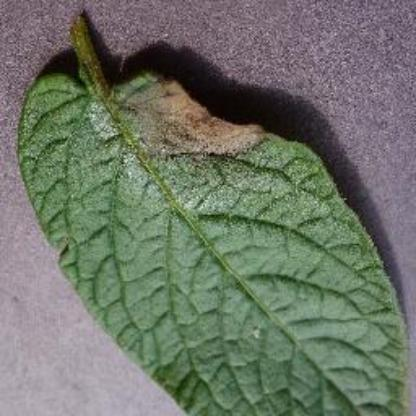Late-Blight: (17, 8, 406, 416)
